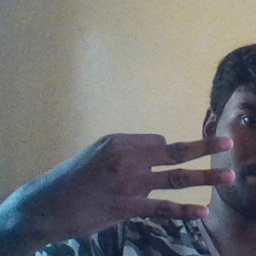K: (55, 131, 240, 221)
